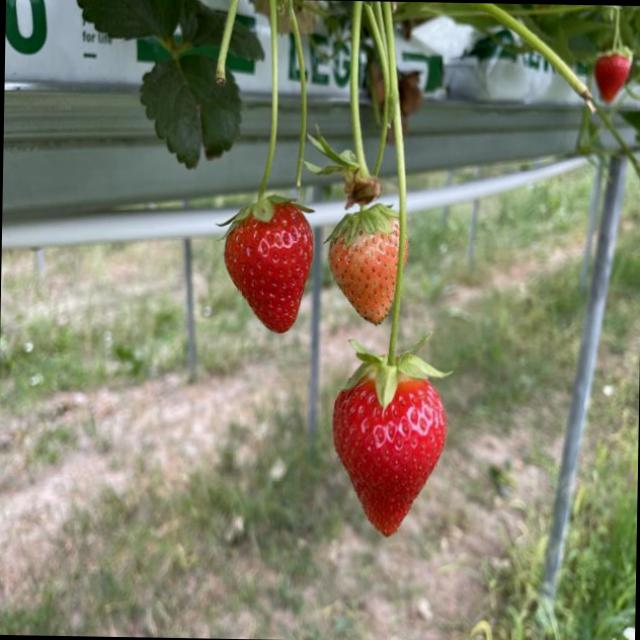stem: (346, 100, 446, 407), (221, 0, 294, 226), (325, 106, 397, 244), (385, 3, 394, 76)
strawberryNR: (328, 221, 396, 323)
strawberryR: (332, 377, 445, 535), (224, 202, 313, 332)
